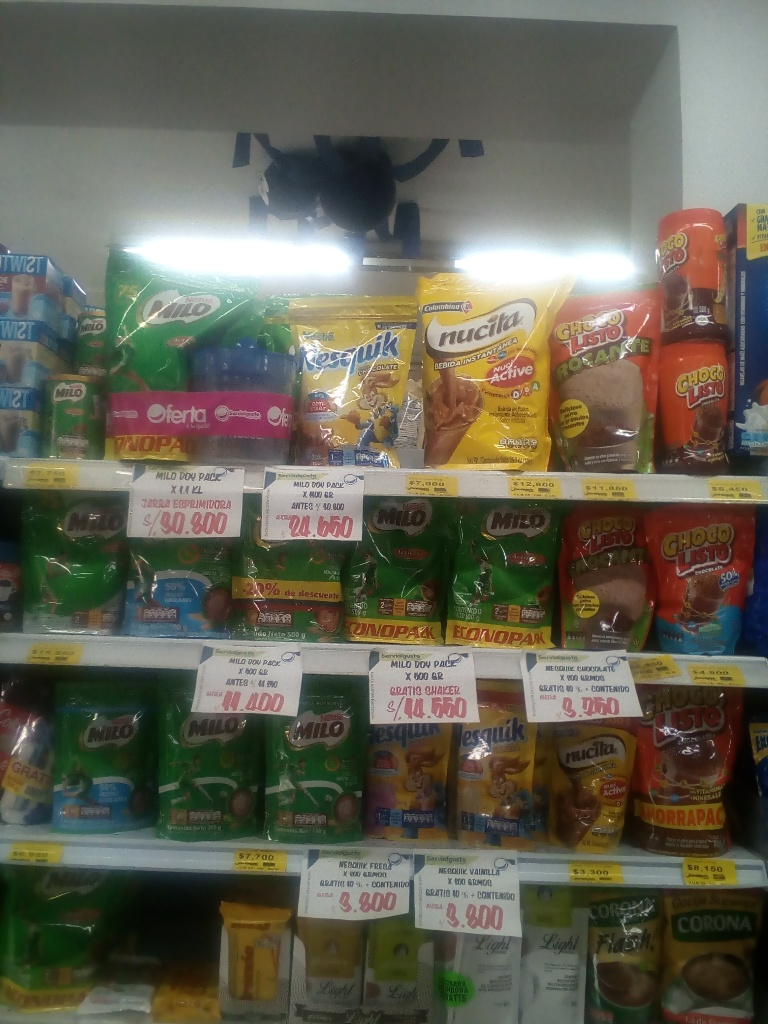COL0170102DYP25000: (563, 500, 655, 652)
COL0170102DYP50000: (541, 295, 663, 480)
COL0170103DYP44000: (636, 677, 740, 853)
COL0170103TRR30000: (666, 342, 735, 476)
COL0170104DYP20000: (658, 502, 760, 653)
COL0170203DYP25000: (162, 676, 269, 843)
COL0170203DYP50000: (348, 504, 457, 647)
COL0170203LAT20000: (46, 374, 108, 461)
COL0170205DYP20000: (39, 676, 152, 832)
COL0170205DYP50000: (122, 527, 233, 639)
COL0170303DYP20000: (295, 293, 426, 468)
